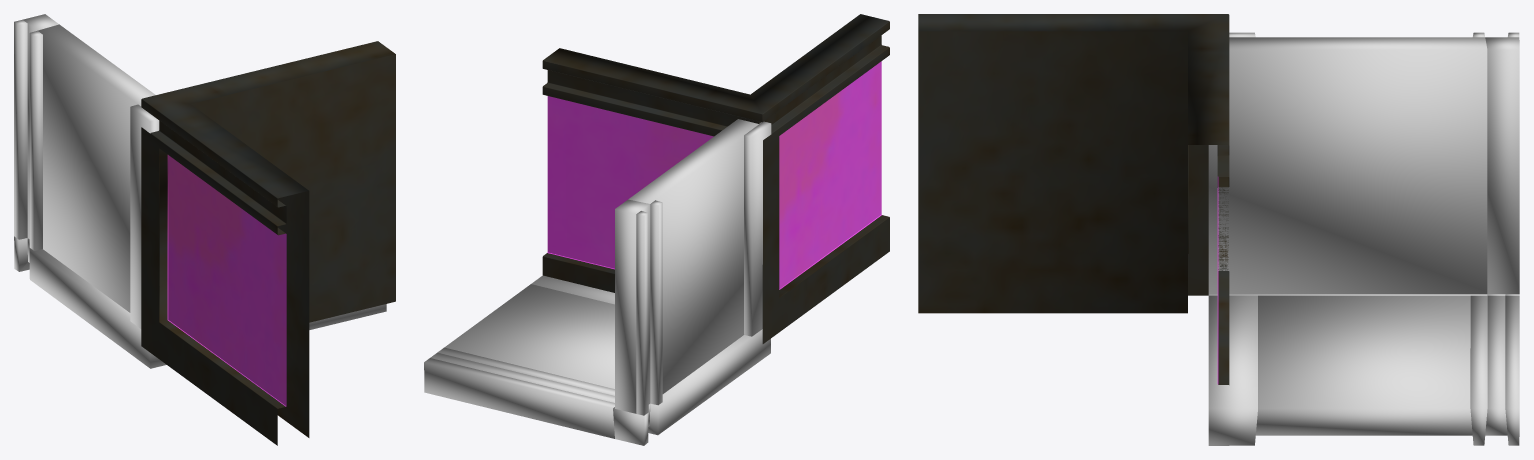
The model's file is SM_Wall_Corner_Low.fbx.
3 renders of one model, left to right at view 1: azimuth 30°, elevation 25°; view 2: azimuth 150°, elevation 25°; view 3: azimuth 270°, elevation 25°, orthographic. The views are drawn at different scales.
Parts seen in each view (by area): view 1: SM_Wall_Corner_Low, SM_Wall_Corner_Low_ConvexHulls; view 2: SM_Wall_Corner_Low_ConvexHulls, SM_Wall_Corner_Low; view 3: SM_Wall_Corner_Low_ConvexHulls, SM_Wall_Corner_Low.
Part boxes in pixels (x1,y1,x2,y2): SM_Wall_Corner_Low: [141, 41, 395, 445]; SM_Wall_Corner_Low_ConvexHulls: [14, 14, 386, 368]; SM_Wall_Corner_Low_ConvexHulls: [424, 119, 771, 445]; SM_Wall_Corner_Low: [542, 14, 889, 343]; SM_Wall_Corner_Low_ConvexHulls: [1208, 32, 1519, 445]; SM_Wall_Corner_Low: [918, 14, 1229, 384].
Bounding box in the file's own units: 1.5 × 1.6 × 2.9.
